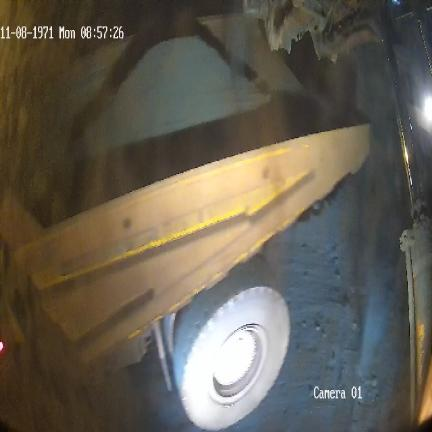pile: (82, 37, 261, 168)
